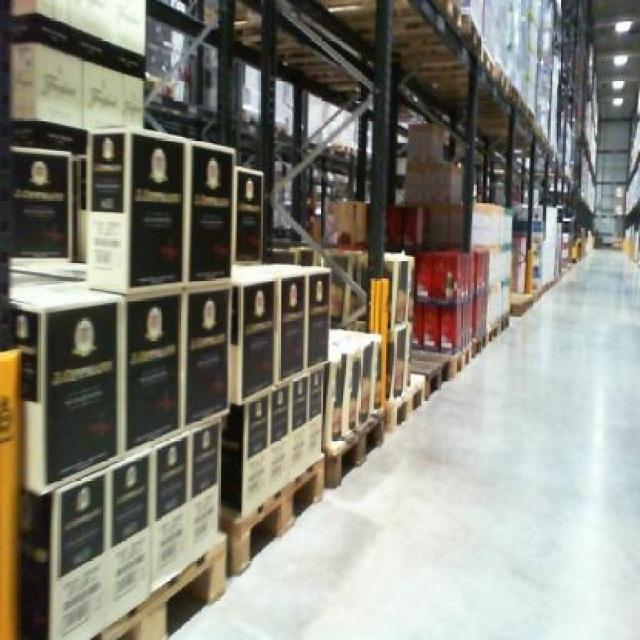pallets: (86, 129, 182, 289)
